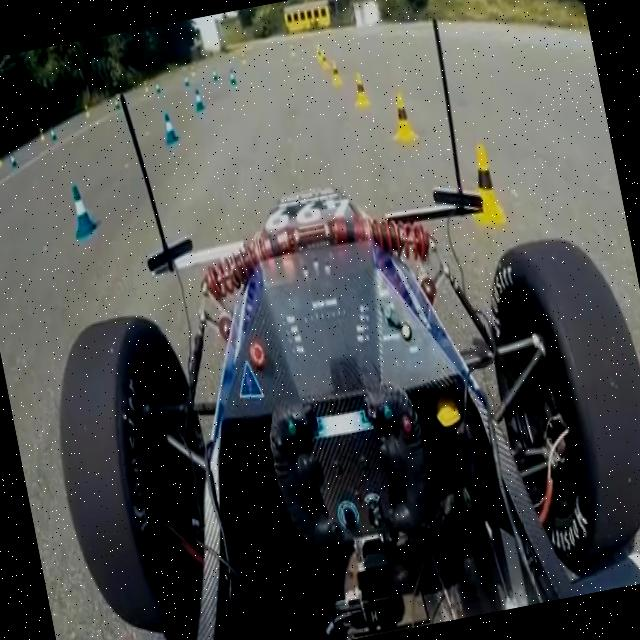blue_cone: (64, 179, 100, 241), (159, 109, 181, 146), (191, 85, 207, 114)
yellow_cone: (461, 142, 508, 230), (387, 89, 418, 146), (349, 70, 372, 110), (327, 59, 343, 87)
